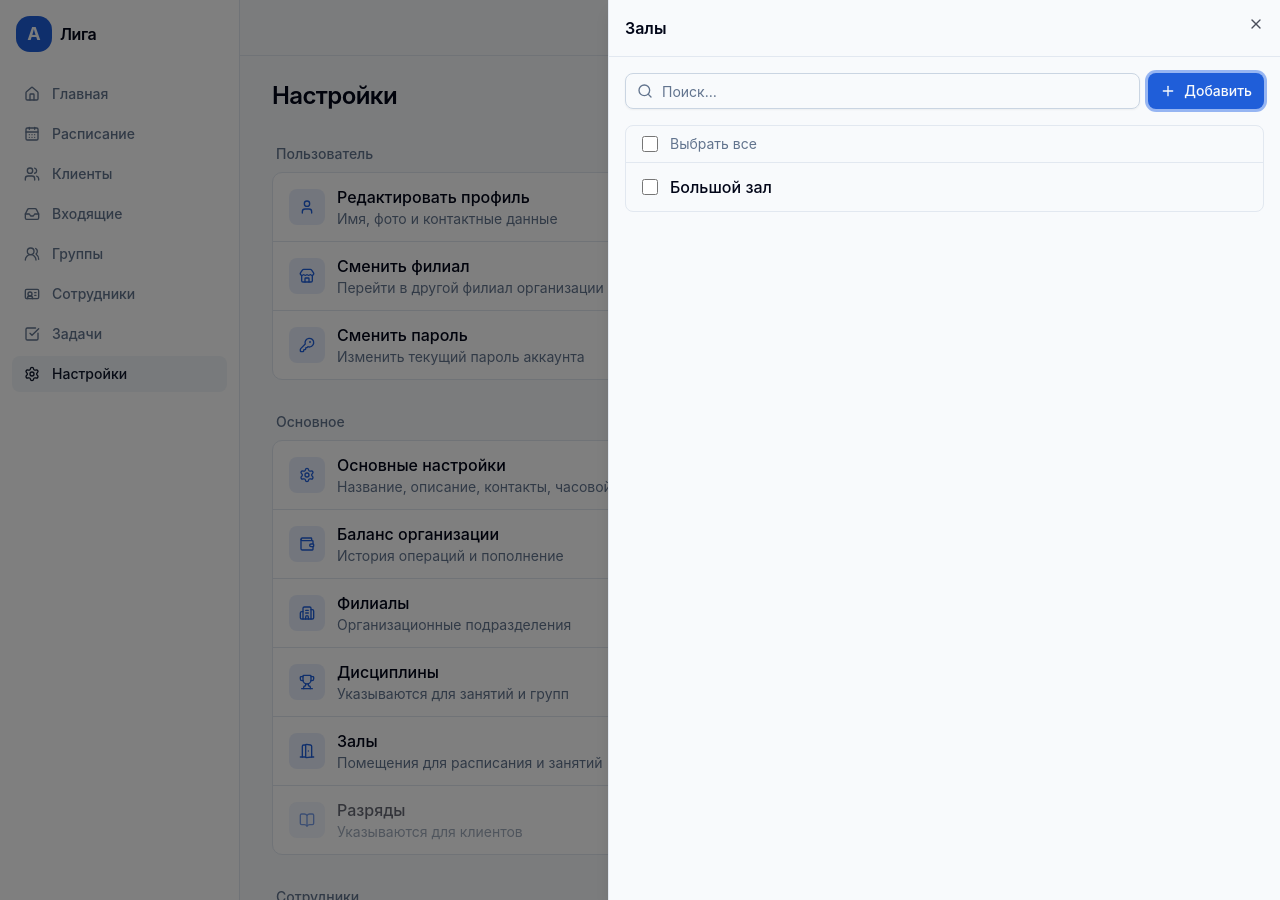
Test: справочник › ошибка сервера остаётся в диалоге
Click the button with aria-label "Изменить «Большой зал»" at (721, 187), box [670, 163, 1247, 211]
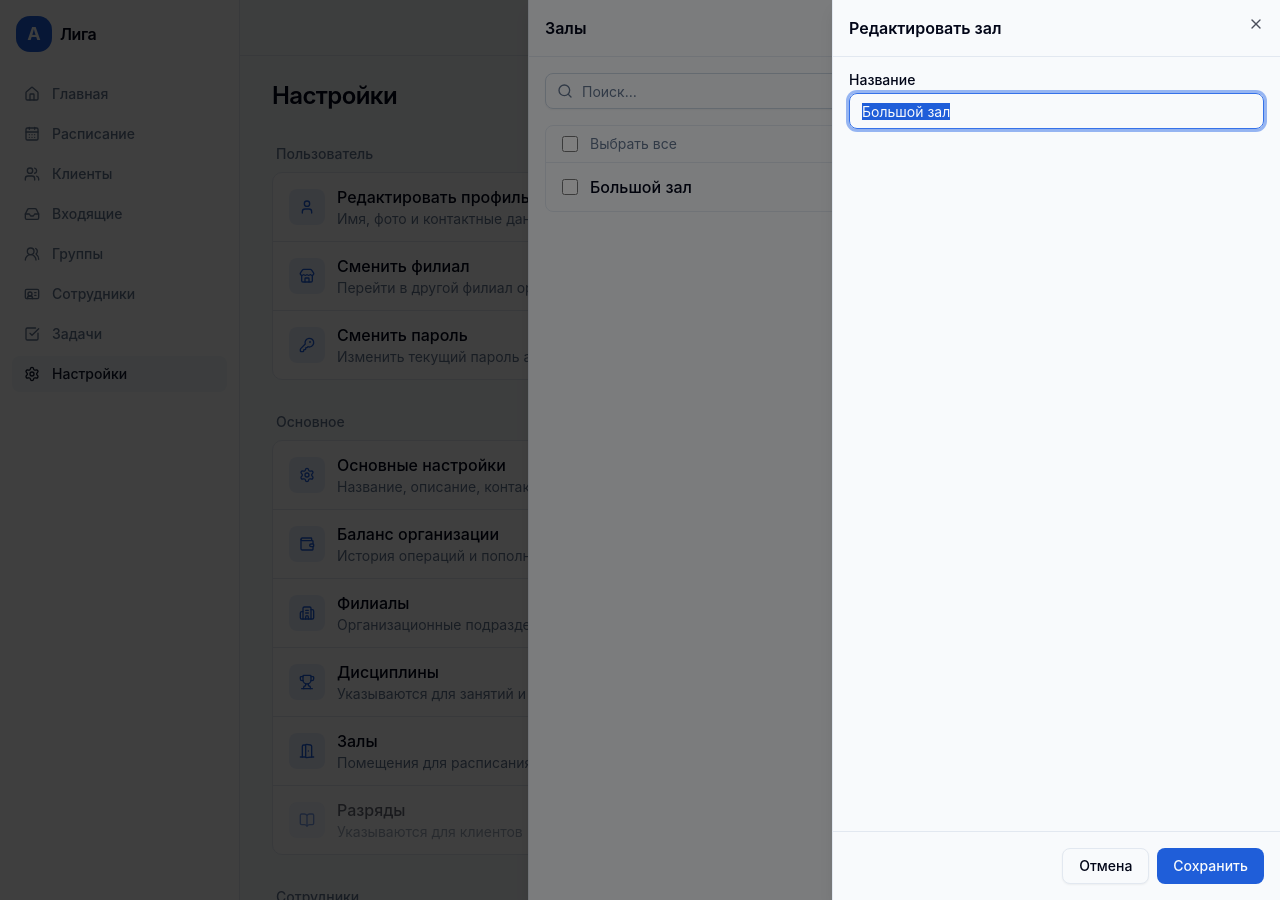
Click the button "Сохранить" at (1211, 866), box [1157, 848, 1264, 884]
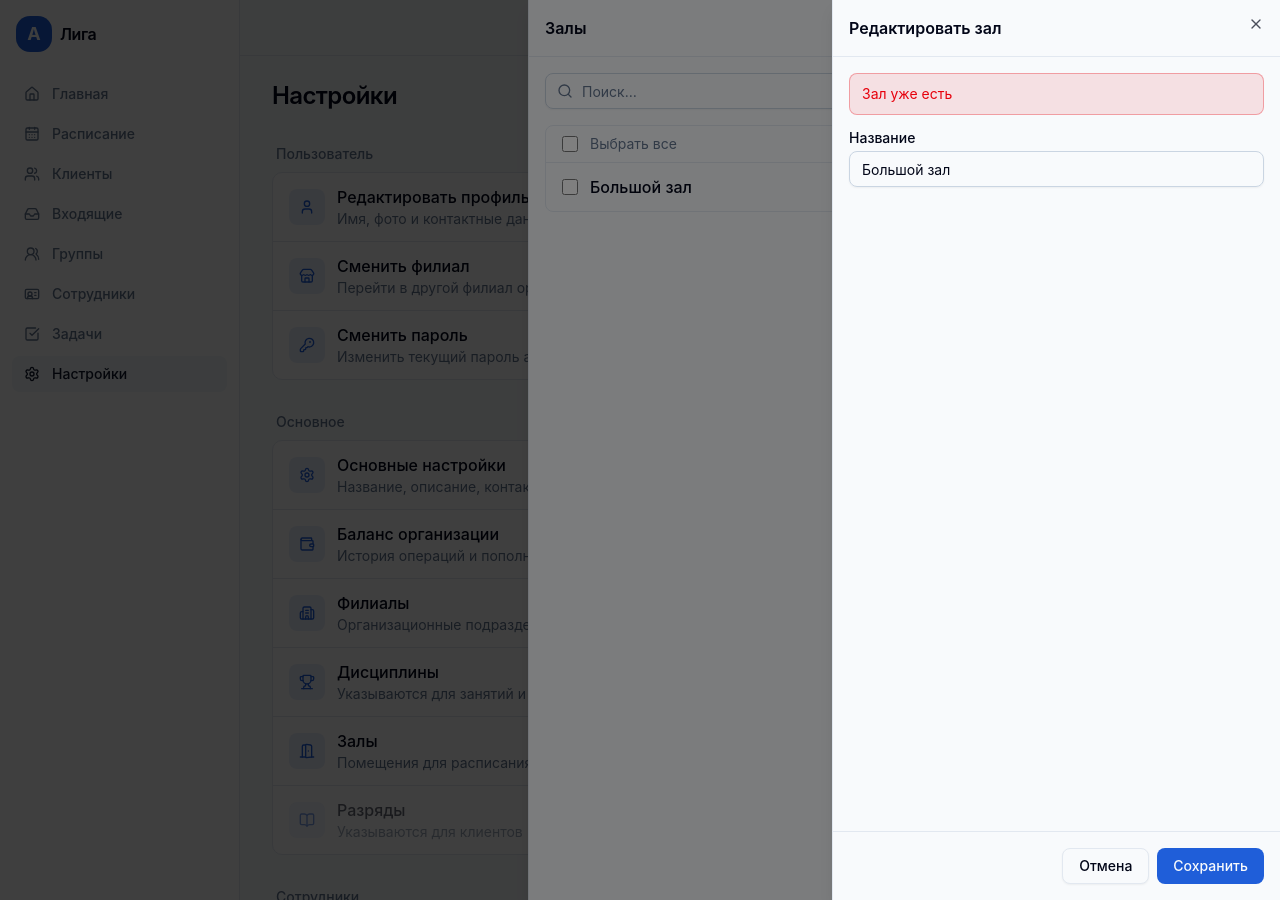
expect the message reads "Зал уже есть": met, box [862, 85, 952, 102]
